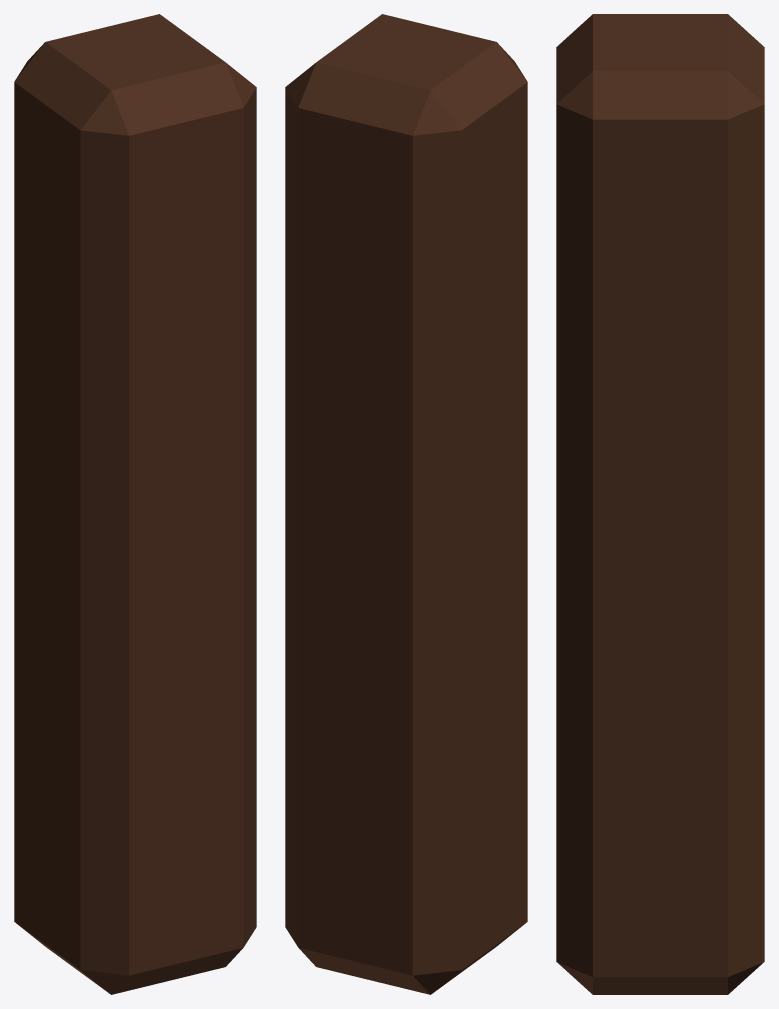
The model's file is wall_bevel.fbx.
The picture shows the model from 3 angles, left to right: view 1: azimuth 30°, elevation 25°; view 2: azimuth 150°, elevation 25°; view 3: azimuth 270°, elevation 25°; orthographic projection. The views are drawn at different scales.
Parts seen in each view (by area): view 1: Cylinder; view 2: Cylinder; view 3: Cylinder.
Part boxes in pixels (left/top/right/bottom): Cylinder: left=14, top=14, right=256, bottom=994; Cylinder: left=285, top=14, right=527, bottom=994; Cylinder: left=556, top=14, right=764, bottom=994.
Size of the model in its own units: 198 by 971 by 198.
